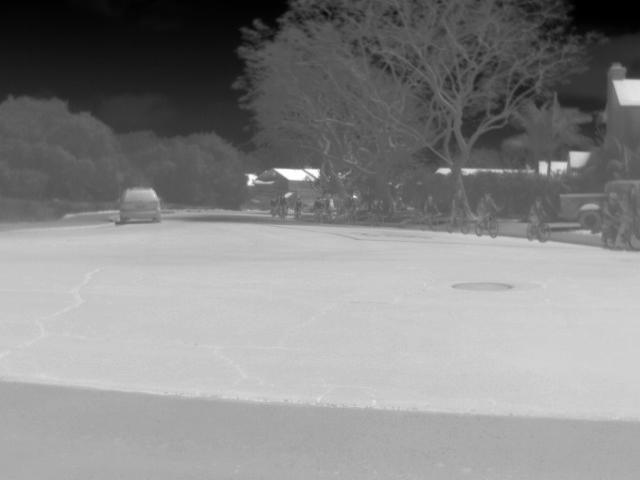car: (557, 178, 639, 233), (116, 185, 164, 224)
person: (600, 192, 628, 248), (475, 193, 502, 234), (526, 197, 550, 239), (449, 188, 471, 232), (422, 194, 442, 222)
